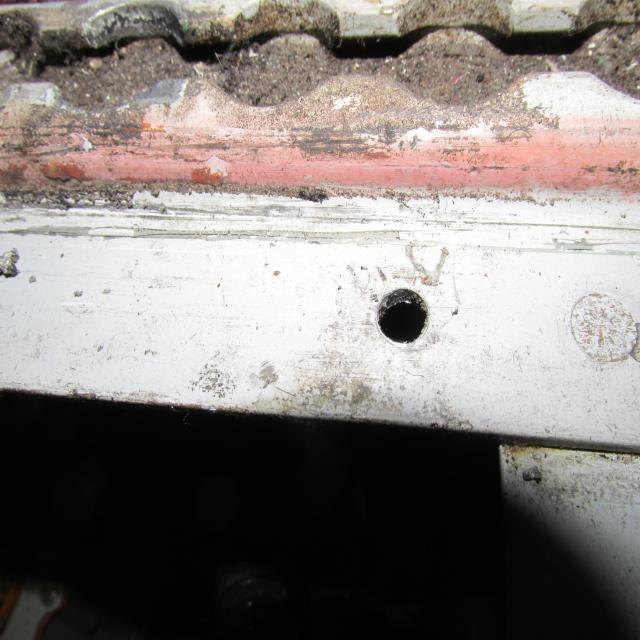Missing Fastener: (360, 259, 444, 361)
